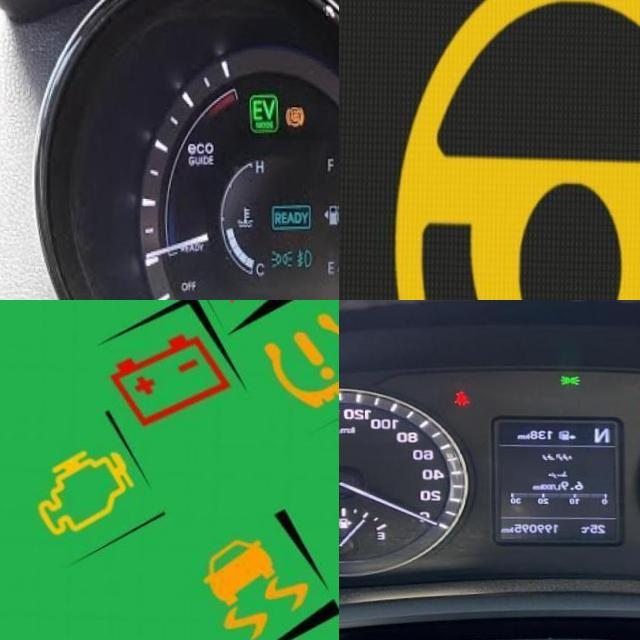Electronic Power Steering: (387, 0, 640, 300)
Seat Belt: (453, 388, 472, 407)
